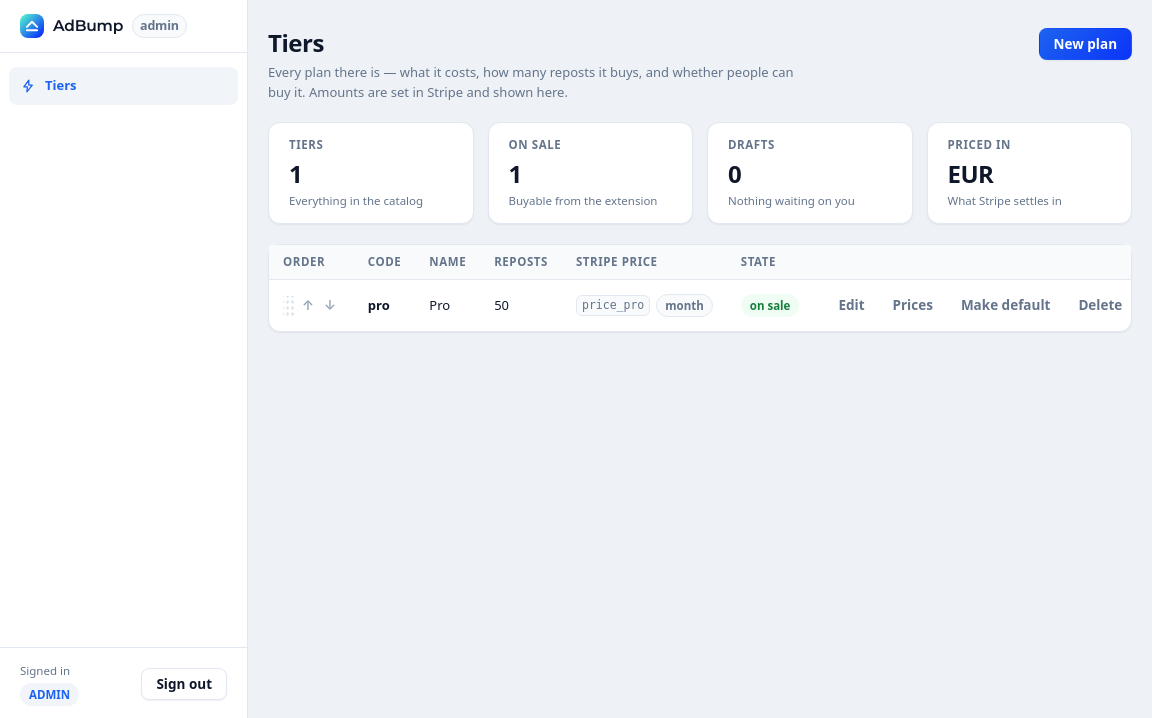
Test: editing a tier › and giving it no cap at all (T73, ADR-0029) › and greys the number, because there is no longer a number to type
The width and height of the screenshot is (1152, 718).
Click the button "Edit". click: (851,306)
box: [827,291,876,320]
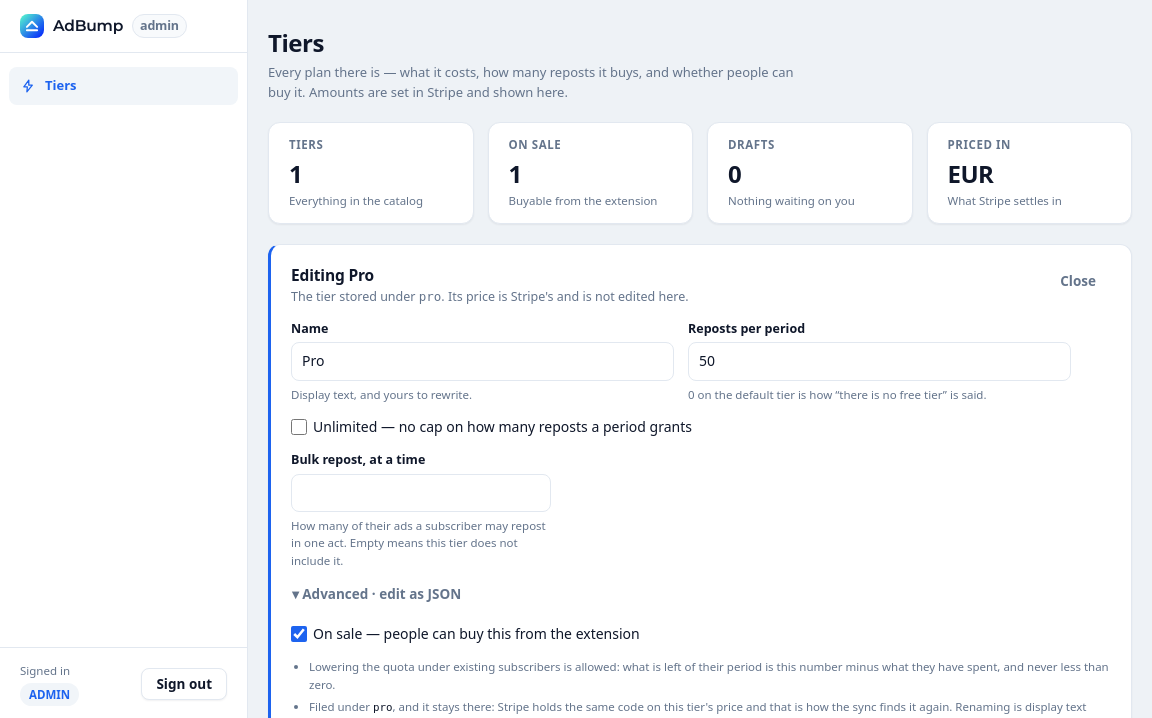
Click the checkbox with id "tier-unlimited". click: (299,427)
box: [291,419,307,435]
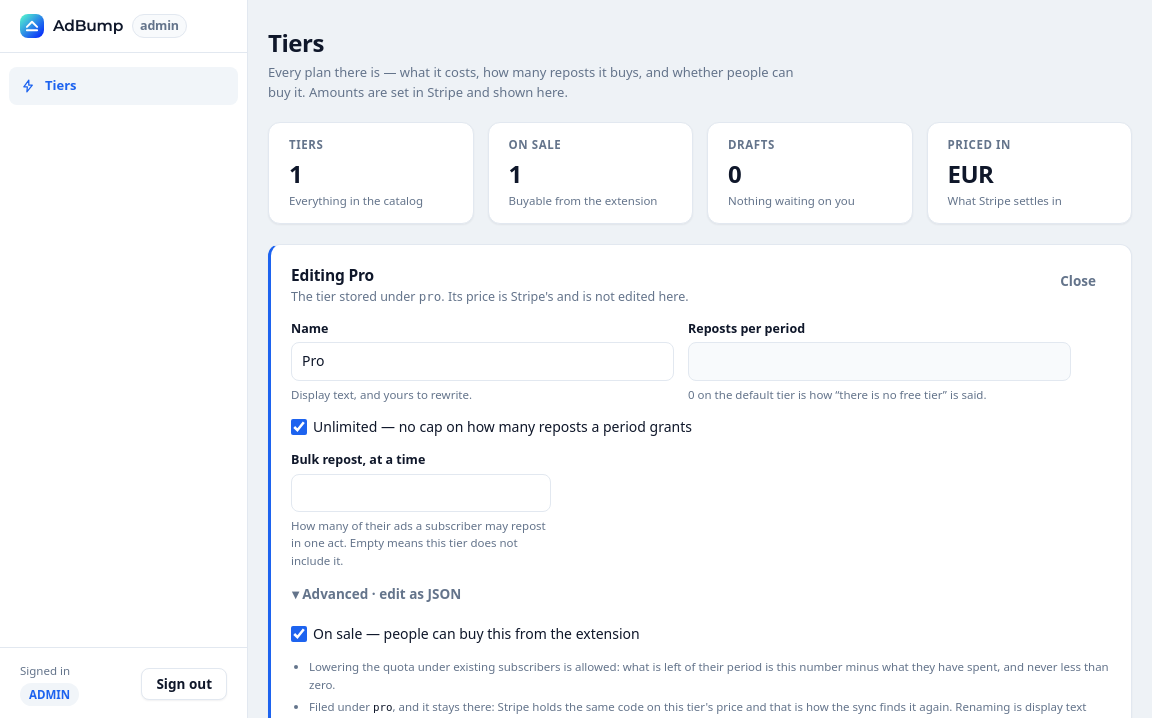
Expected: the number field with id "tier-quota" is disabled, [688,342,1071,381]
